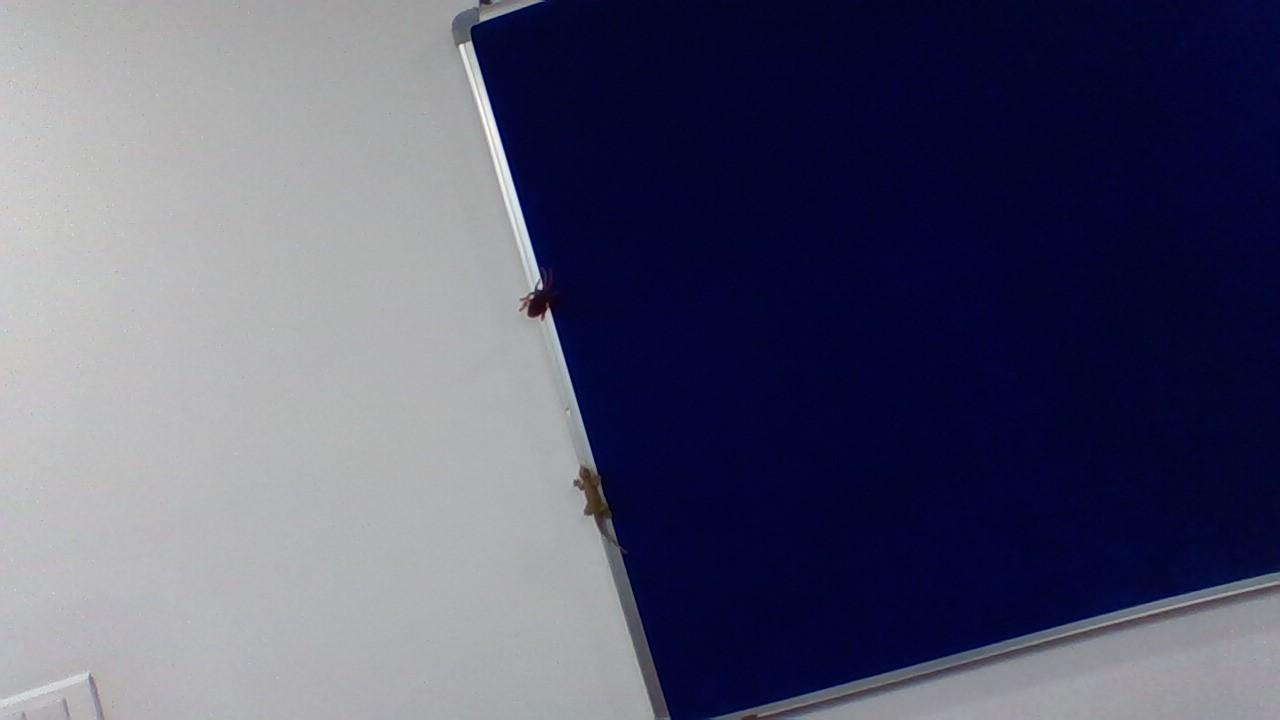cockroach: (509, 270, 582, 333)
lizard: (569, 450, 626, 557)
